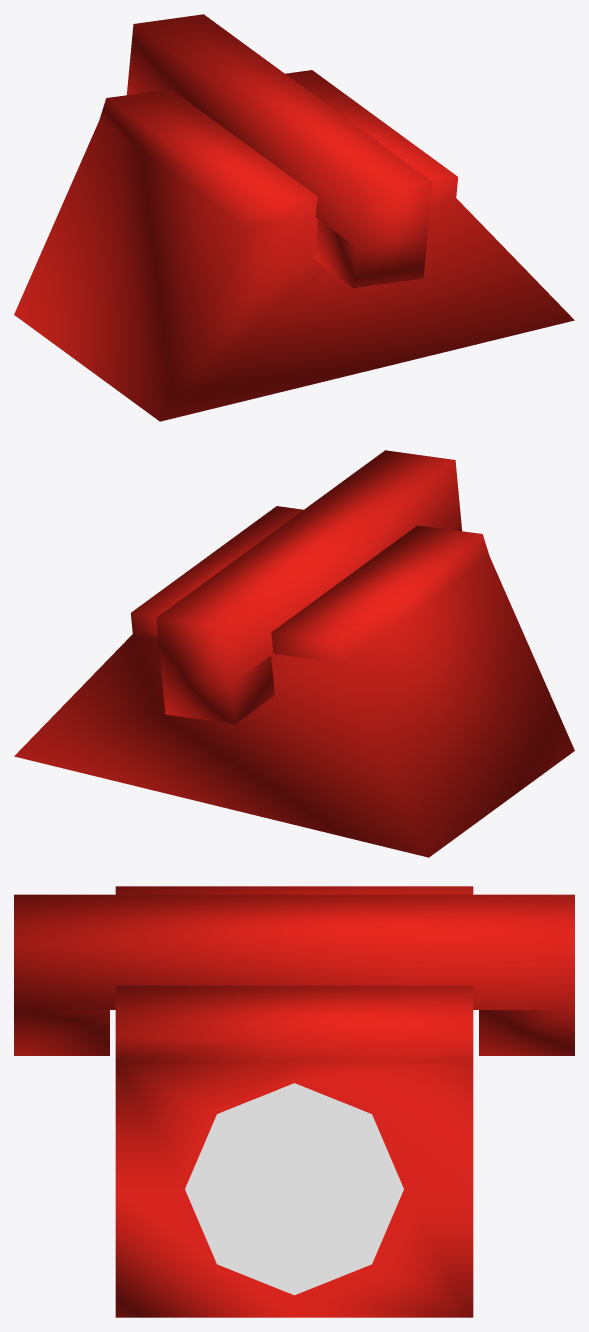
File: Telephone_Only.fbx
3 views of the same model, one above another, from view 1: azimuth 30°, elevation 25°; view 2: azimuth 150°, elevation 25°; view 3: azimuth 270°, elevation 25° (orthographic). The views are drawn at different scales.
Visible parts, largest first — view 1: Cube, Cube.002; view 2: Cube, Cube.002; view 3: Cube, Cube.002.
Part boxes in pixels (x1,y1,x2,y2): Cube: (14, 70, 574, 421); Cube.002: (126, 14, 432, 287); Cube: (14, 506, 574, 857); Cube.002: (156, 450, 462, 723); Cube: (115, 886, 473, 1317); Cube.002: (14, 894, 574, 1055).
Bounding box in the file's own units: 93.38 × 47.57 × 89.22.
